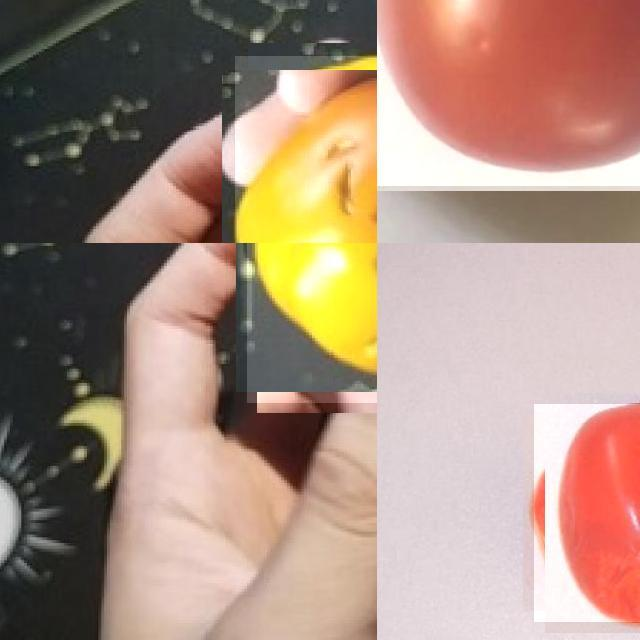Fresh Tomato: (377, 0, 640, 186)
Rotten Tomato: (235, 56, 377, 243), (534, 403, 640, 622), (246, 243, 377, 402)
